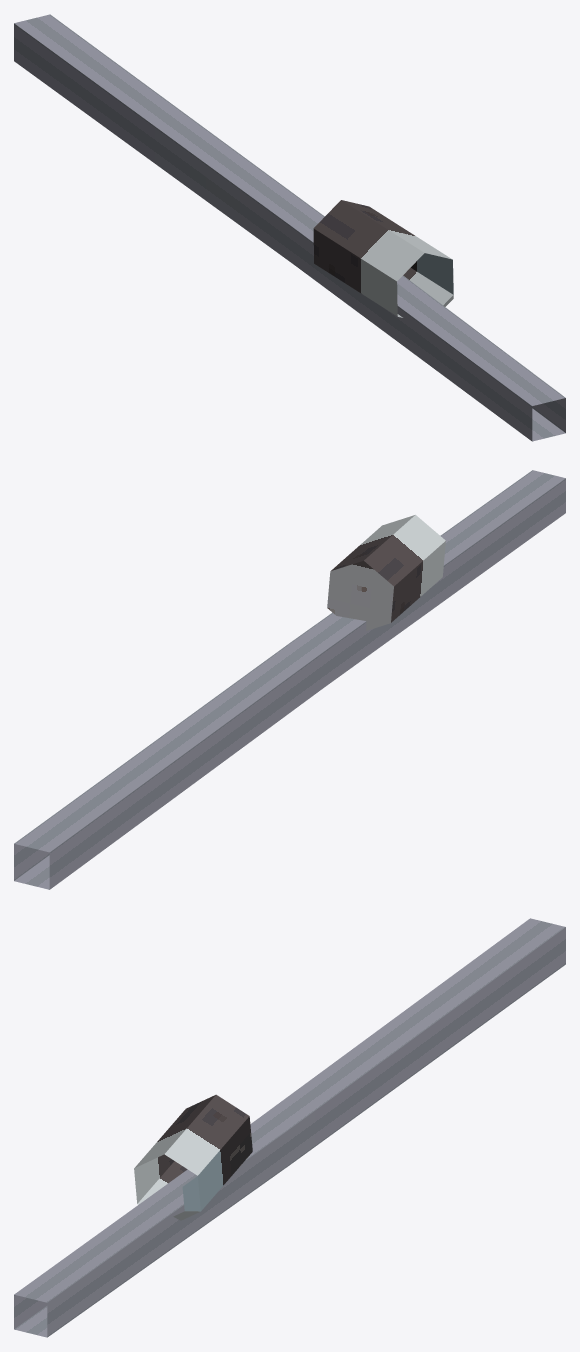
Rendered from 023_tolppaWired.gltf.
3 renders of one model, top to bottom at view 1: azimuth 30°, elevation 25°; view 2: azimuth 150°, elevation 25°; view 3: azimuth 330°, elevation 25°, orthographic.
Visible parts, largest first — view 1: tolppaWired; view 2: tolppaWired; view 3: tolppaWired.
Part boxes in pixels (x1,y1,x2,y2): tolppaWired: (14,14,565,441); tolppaWired: (14,470,565,889); tolppaWired: (14,918,565,1337).
Bounding box in the file's own units: 1.08 × 1.29 × 12.61.
1 material, 1 textured.
